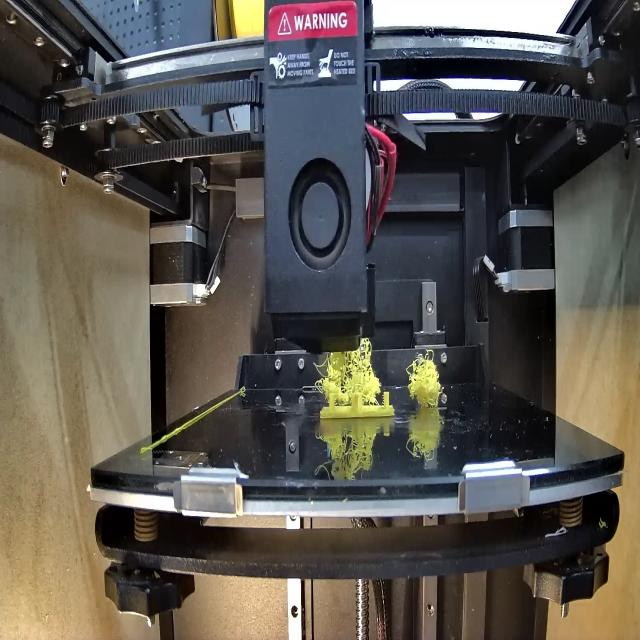spaghetti: (315, 336, 381, 402), (403, 350, 445, 409)
